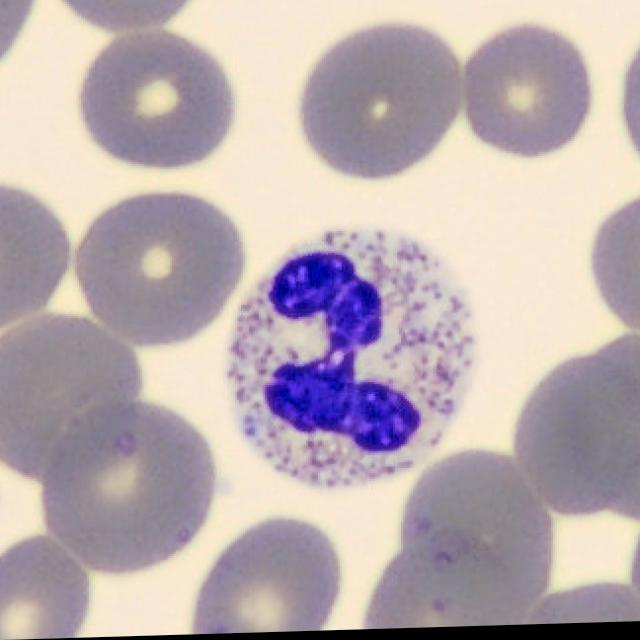Neutrofilo segmentado: (229, 233, 472, 486)
